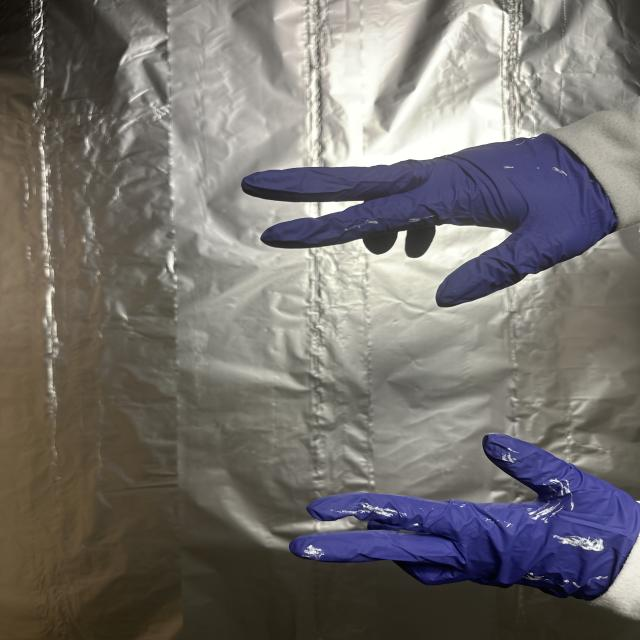gloves_contaminated: (242, 134, 617, 307), (290, 434, 640, 600)
